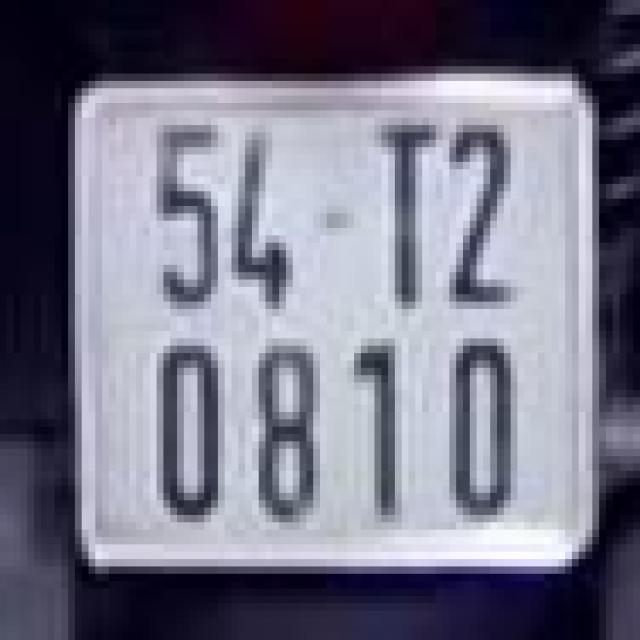0: (436, 331, 531, 537), (140, 331, 228, 537)
1: (344, 328, 419, 534)
2: (443, 114, 524, 320)
4: (228, 107, 296, 327)
5: (136, 110, 232, 316)
8: (245, 331, 334, 522)
T: (357, 95, 446, 324)
